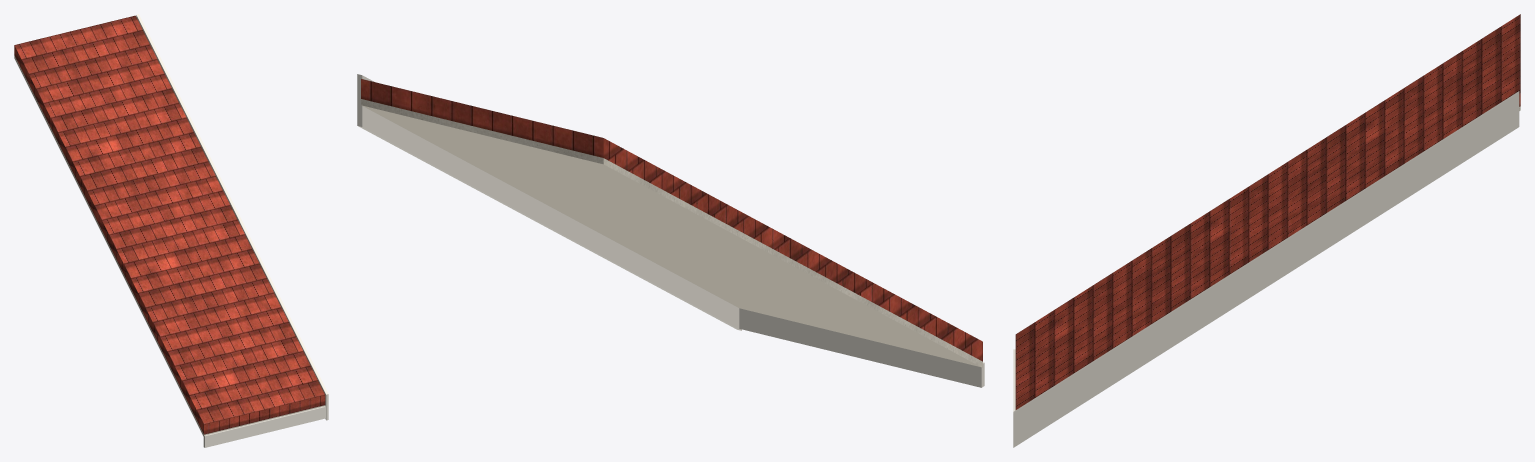
Rendered from roof_back_end.glb.
3 renders of one model, left to right at view 1: azimuth 30°, elevation 25°; view 2: azimuth 150°, elevation 25°; view 3: azimuth 270°, elevation 25°, orthographic. The views are drawn at different scales.
Visible parts, largest first — view 1: roof_back_end_roof, roof_back_end_trim, roof_back_end_plaster; view 2: roof_back_end_plaster, roof_back_end_trim, roof_back_end_roof; view 3: roof_back_end_roof, roof_back_end_trim.
Part boxes in pixels (box(x1,y1,x2,y2)): roof_back_end_roof: box(14, 15, 325, 434); roof_back_end_trim: box(136, 14, 328, 447); roof_back_end_plaster: box(14, 55, 325, 436); roof_back_end_plaster: box(361, 99, 982, 367); roof_back_end_trim: box(357, 74, 984, 387); roof_back_end_roof: box(361, 79, 982, 361); roof_back_end_roof: box(1015, 14, 1520, 409); roof_back_end_trim: box(1013, 91, 1519, 447).
Bounding box in the file's own units: 2.45 × 5.05 × 6.53.
3 materials, 2 textured.
